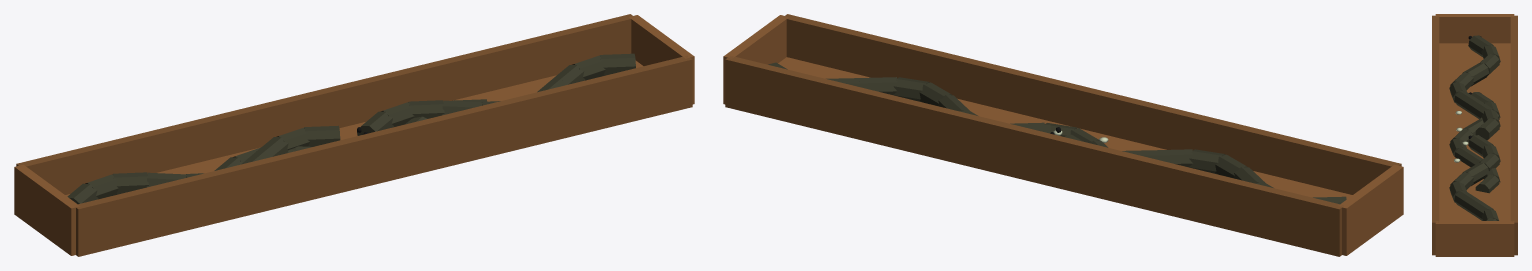
File: Fish_Eel.fbx
The picture shows the model from 3 angles, left to right: view 1: azimuth 30°, elevation 25°; view 2: azimuth 150°, elevation 25°; view 3: azimuth 270°, elevation 25°; orthographic projection. The views are drawn at different scales.
Parts seen in each view (by area): view 1: Fish_Eel__Stack, Fish_Eel; view 2: Fish_Eel__Stack, Fish_Eel; view 3: Fish_Eel__Stack, Fish_Eel, Fish_Eel__Rotten.
Boxes of the visible parts, bbox=[...] form: Fish_Eel__Stack: bbox=[14, 14, 694, 256]; Fish_Eel: bbox=[214, 99, 487, 170]; Fish_Eel__Stack: bbox=[723, 14, 1403, 256]; Fish_Eel: bbox=[1010, 122, 1108, 147]; Fish_Eel__Stack: bbox=[1432, 14, 1517, 256]; Fish_Eel: bbox=[1449, 92, 1500, 193]; Fish_Eel__Rotten: bbox=[1454, 111, 1468, 162].
Size of the model in its own units: 0.5475 by 0.04 by 0.0946.
